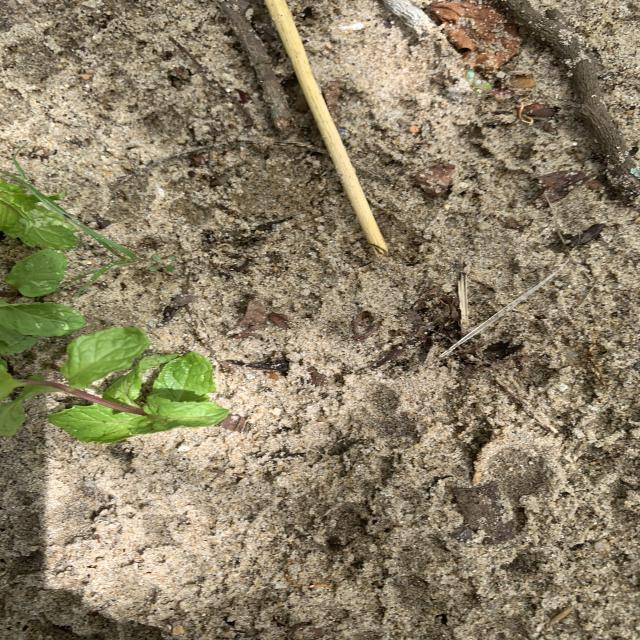crop: (1, 328, 226, 441), (1, 250, 82, 353), (0, 180, 75, 248)
weed: (0, 155, 138, 296), (149, 255, 175, 271)
